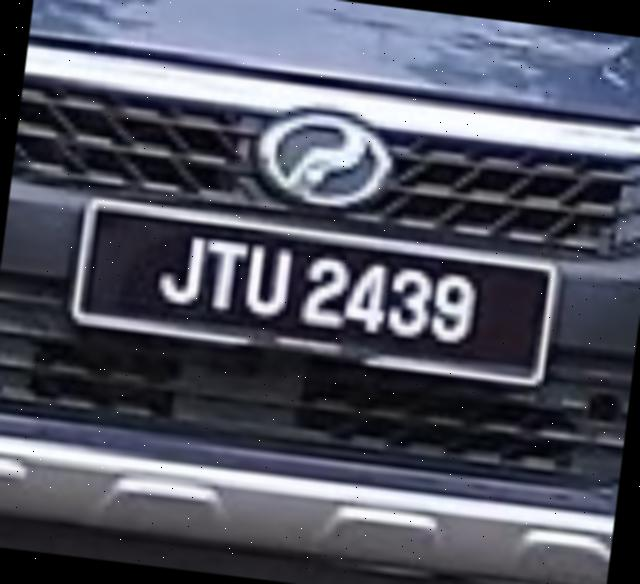License_Plate: (49, 178, 587, 410)
